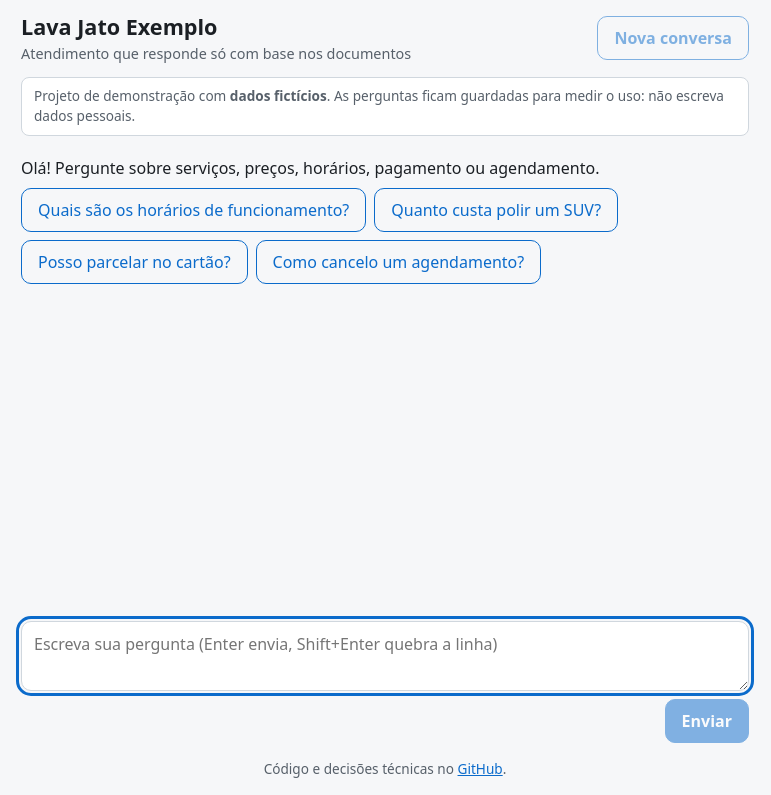
Scenario: conversa › começa com sugestões; clicar em uma envia a pergunta
Click the button "Posso parcelar no cartão?" at coordinates (134, 262), box [21,240,248,284]
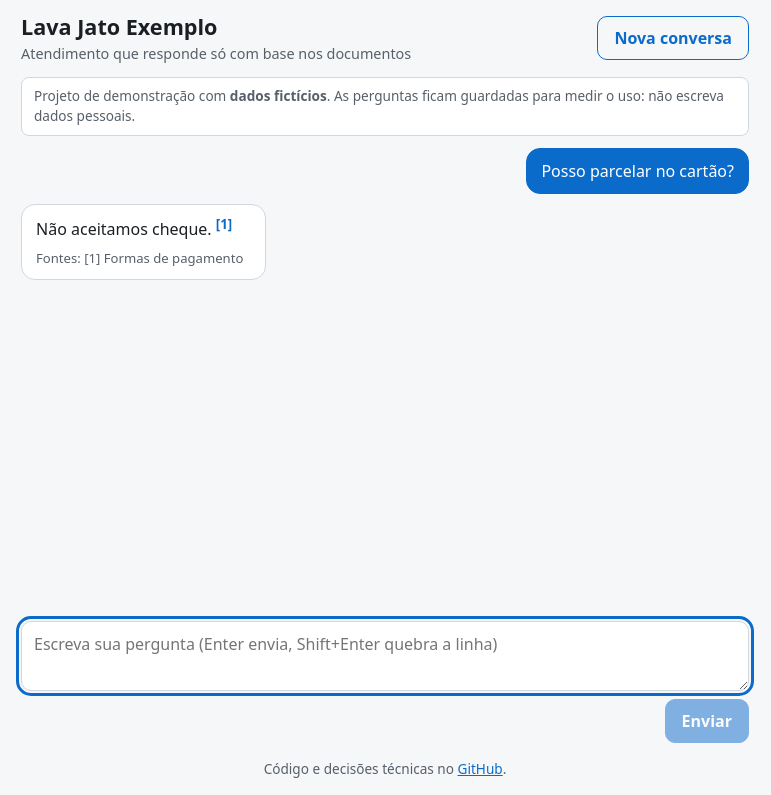
Check: the text "Não aceitamos cheque. [1]" is shown, box [36,215,251,241]
Check: the field labelled "Sugestões" is gone
